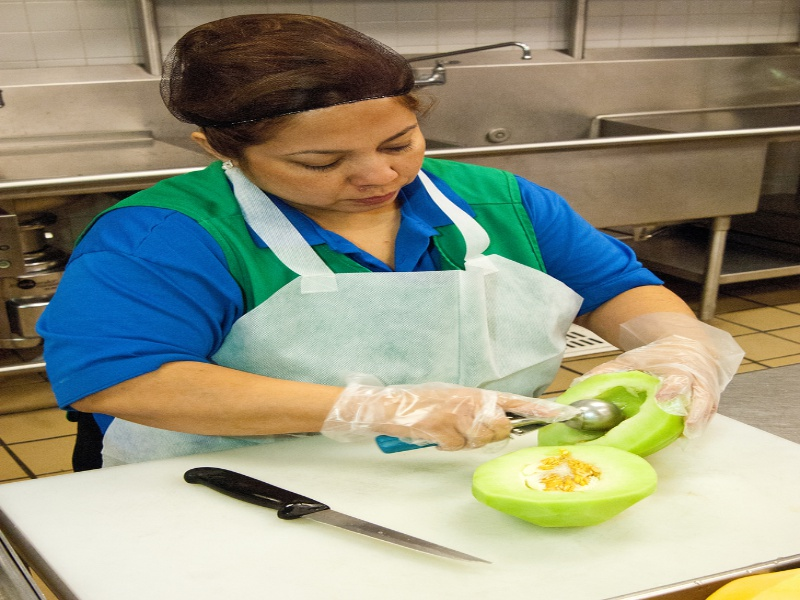knife: (178, 465, 495, 566)
